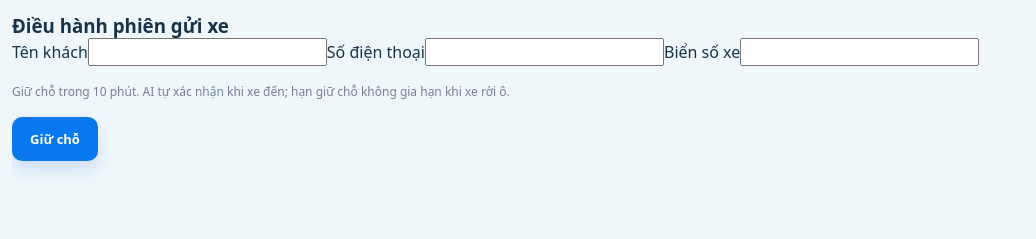
Scenario: session creation from a slot › reloads on conflict without claiming success
Type " Nguyễn An " into the field labelled "Tên khách" at (207, 52), box [88,38,327,66]
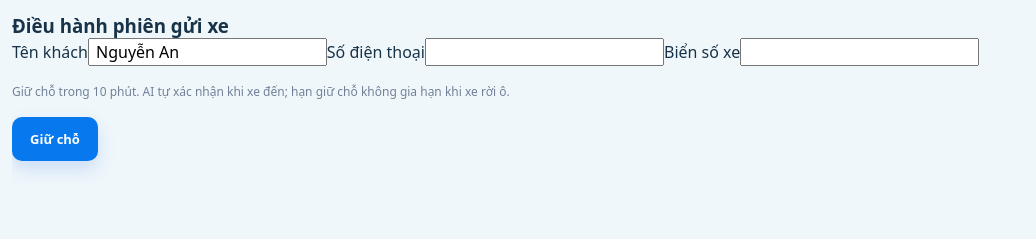
Type "0901234567" into the field labelled "Số điện thoại" at (544, 52), box [425,38,664,66]
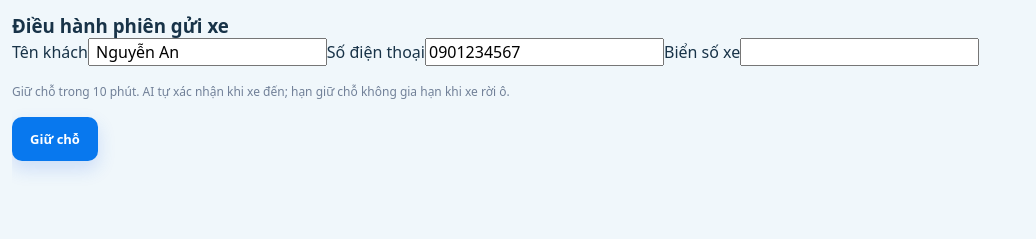
Type "30A-123.45" into the field labelled "Biển số xe" at (860, 52), box [740,38,979,66]
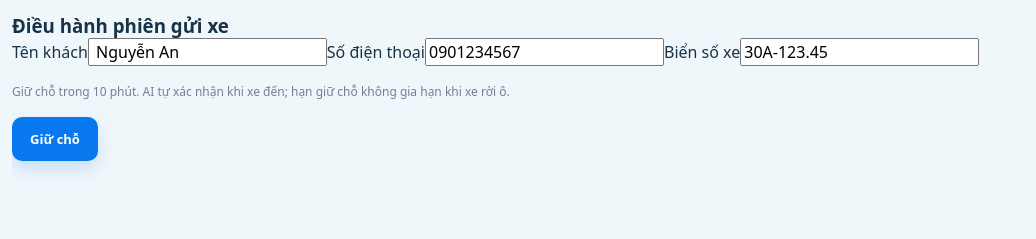
Click the button "Giữ chỗ" at (55, 139), box [12,117,98,161]
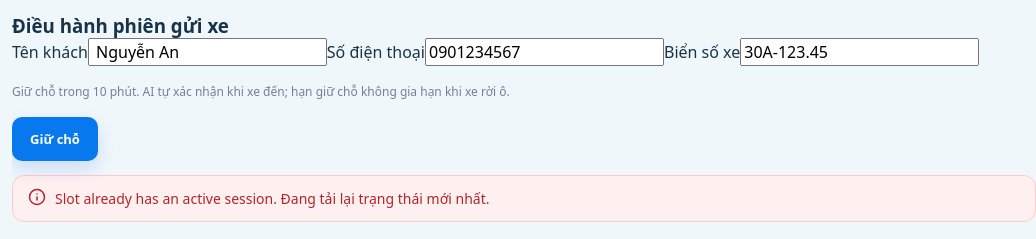
Now the message "Slot already has an active session. Đang tải lại trạng thái mới nhất." is shown, box [12,175,1035,222]
